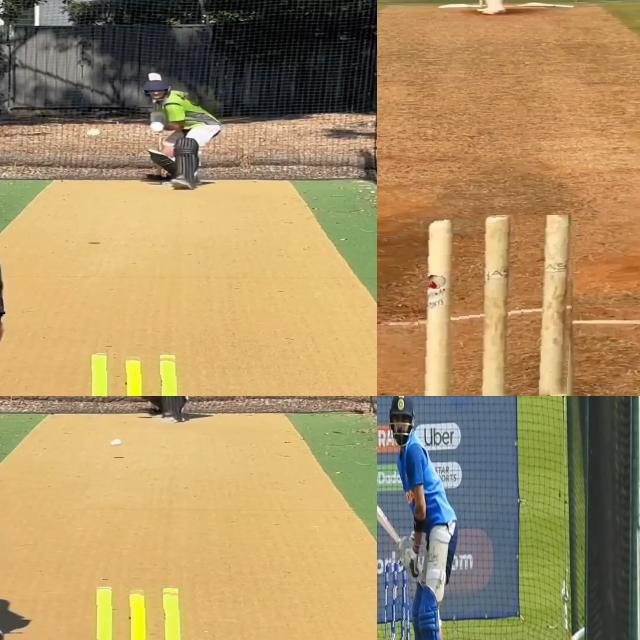Cricket ball: (85, 128, 104, 138), (109, 439, 124, 447)
Stumps: (417, 215, 578, 396), (72, 585, 203, 640), (74, 351, 195, 396), (385, 563, 411, 640)
